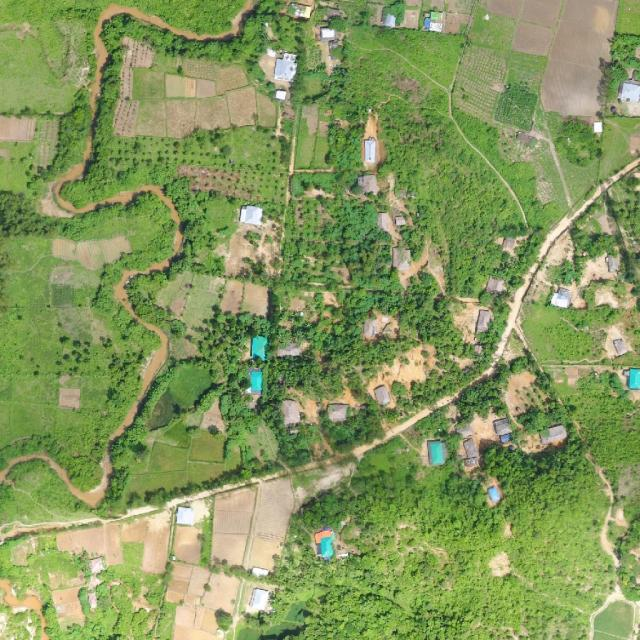agricultural_land: (111, 38, 285, 158), (486, 0, 618, 116), (447, 10, 560, 135), (211, 475, 296, 577), (166, 560, 270, 639), (55, 509, 170, 573), (278, 444, 360, 512), (173, 525, 203, 563), (189, 497, 212, 523)
building: (313, 526, 339, 562), (538, 424, 569, 446), (426, 438, 449, 467), (273, 57, 298, 83), (550, 285, 573, 310), (281, 399, 300, 426), (493, 418, 512, 444), (372, 384, 392, 408), (251, 335, 268, 361), (362, 138, 378, 164), (240, 206, 263, 224), (485, 276, 508, 294), (462, 437, 480, 460), (326, 404, 348, 422), (358, 175, 378, 194), (249, 368, 263, 395), (476, 310, 491, 334), (486, 484, 503, 504), (428, 11, 444, 32), (628, 369, 640, 390), (384, 14, 397, 27)
greenland: (357, 71, 545, 308), (0, 239, 159, 488), (58, 88, 197, 238), (0, 535, 164, 640), (449, 91, 567, 235), (55, 188, 185, 290), (112, 352, 219, 463), (559, 362, 640, 480), (387, 269, 487, 364), (499, 121, 586, 220), (304, 305, 402, 390), (273, 194, 344, 305), (189, 291, 277, 380), (288, 39, 342, 172), (139, 356, 217, 441), (326, 59, 448, 113), (41, 84, 103, 188), (446, 363, 528, 436), (264, 338, 352, 406), (371, 24, 463, 87), (488, 219, 553, 294), (336, 219, 398, 296), (0, 116, 59, 192), (546, 111, 609, 174), (447, 99, 511, 161), (130, 359, 180, 431), (318, 403, 387, 455), (404, 358, 470, 411), (468, 294, 516, 363), (215, 382, 265, 448), (552, 150, 599, 206), (587, 55, 633, 108), (514, 396, 571, 437), (0, 190, 50, 236), (0, 585, 41, 639), (342, 287, 403, 323), (74, 236, 133, 272), (277, 424, 320, 468), (270, 15, 307, 53), (414, 407, 454, 439), (509, 355, 530, 374), (535, 372, 553, 392), (350, 202, 375, 211)
unmetalled_road: (0, 166, 202, 517), (466, 140, 640, 371), (350, 404, 435, 460), (164, 473, 264, 509), (123, 502, 159, 519), (127, 503, 158, 517), (443, 397, 453, 405)
